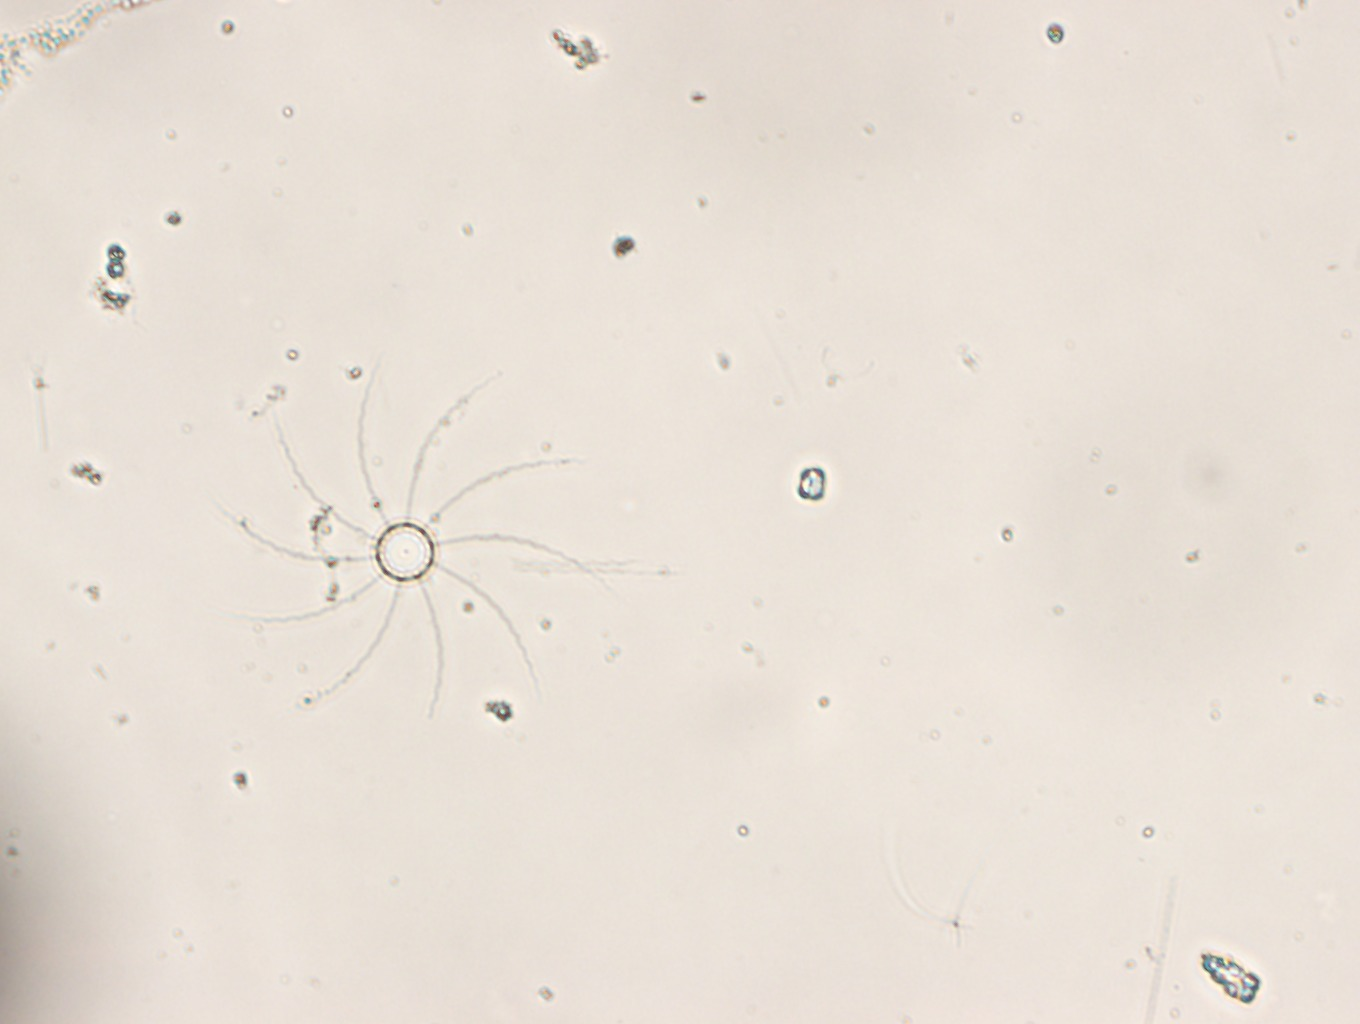bacteriastrum: (234, 355, 619, 727)
